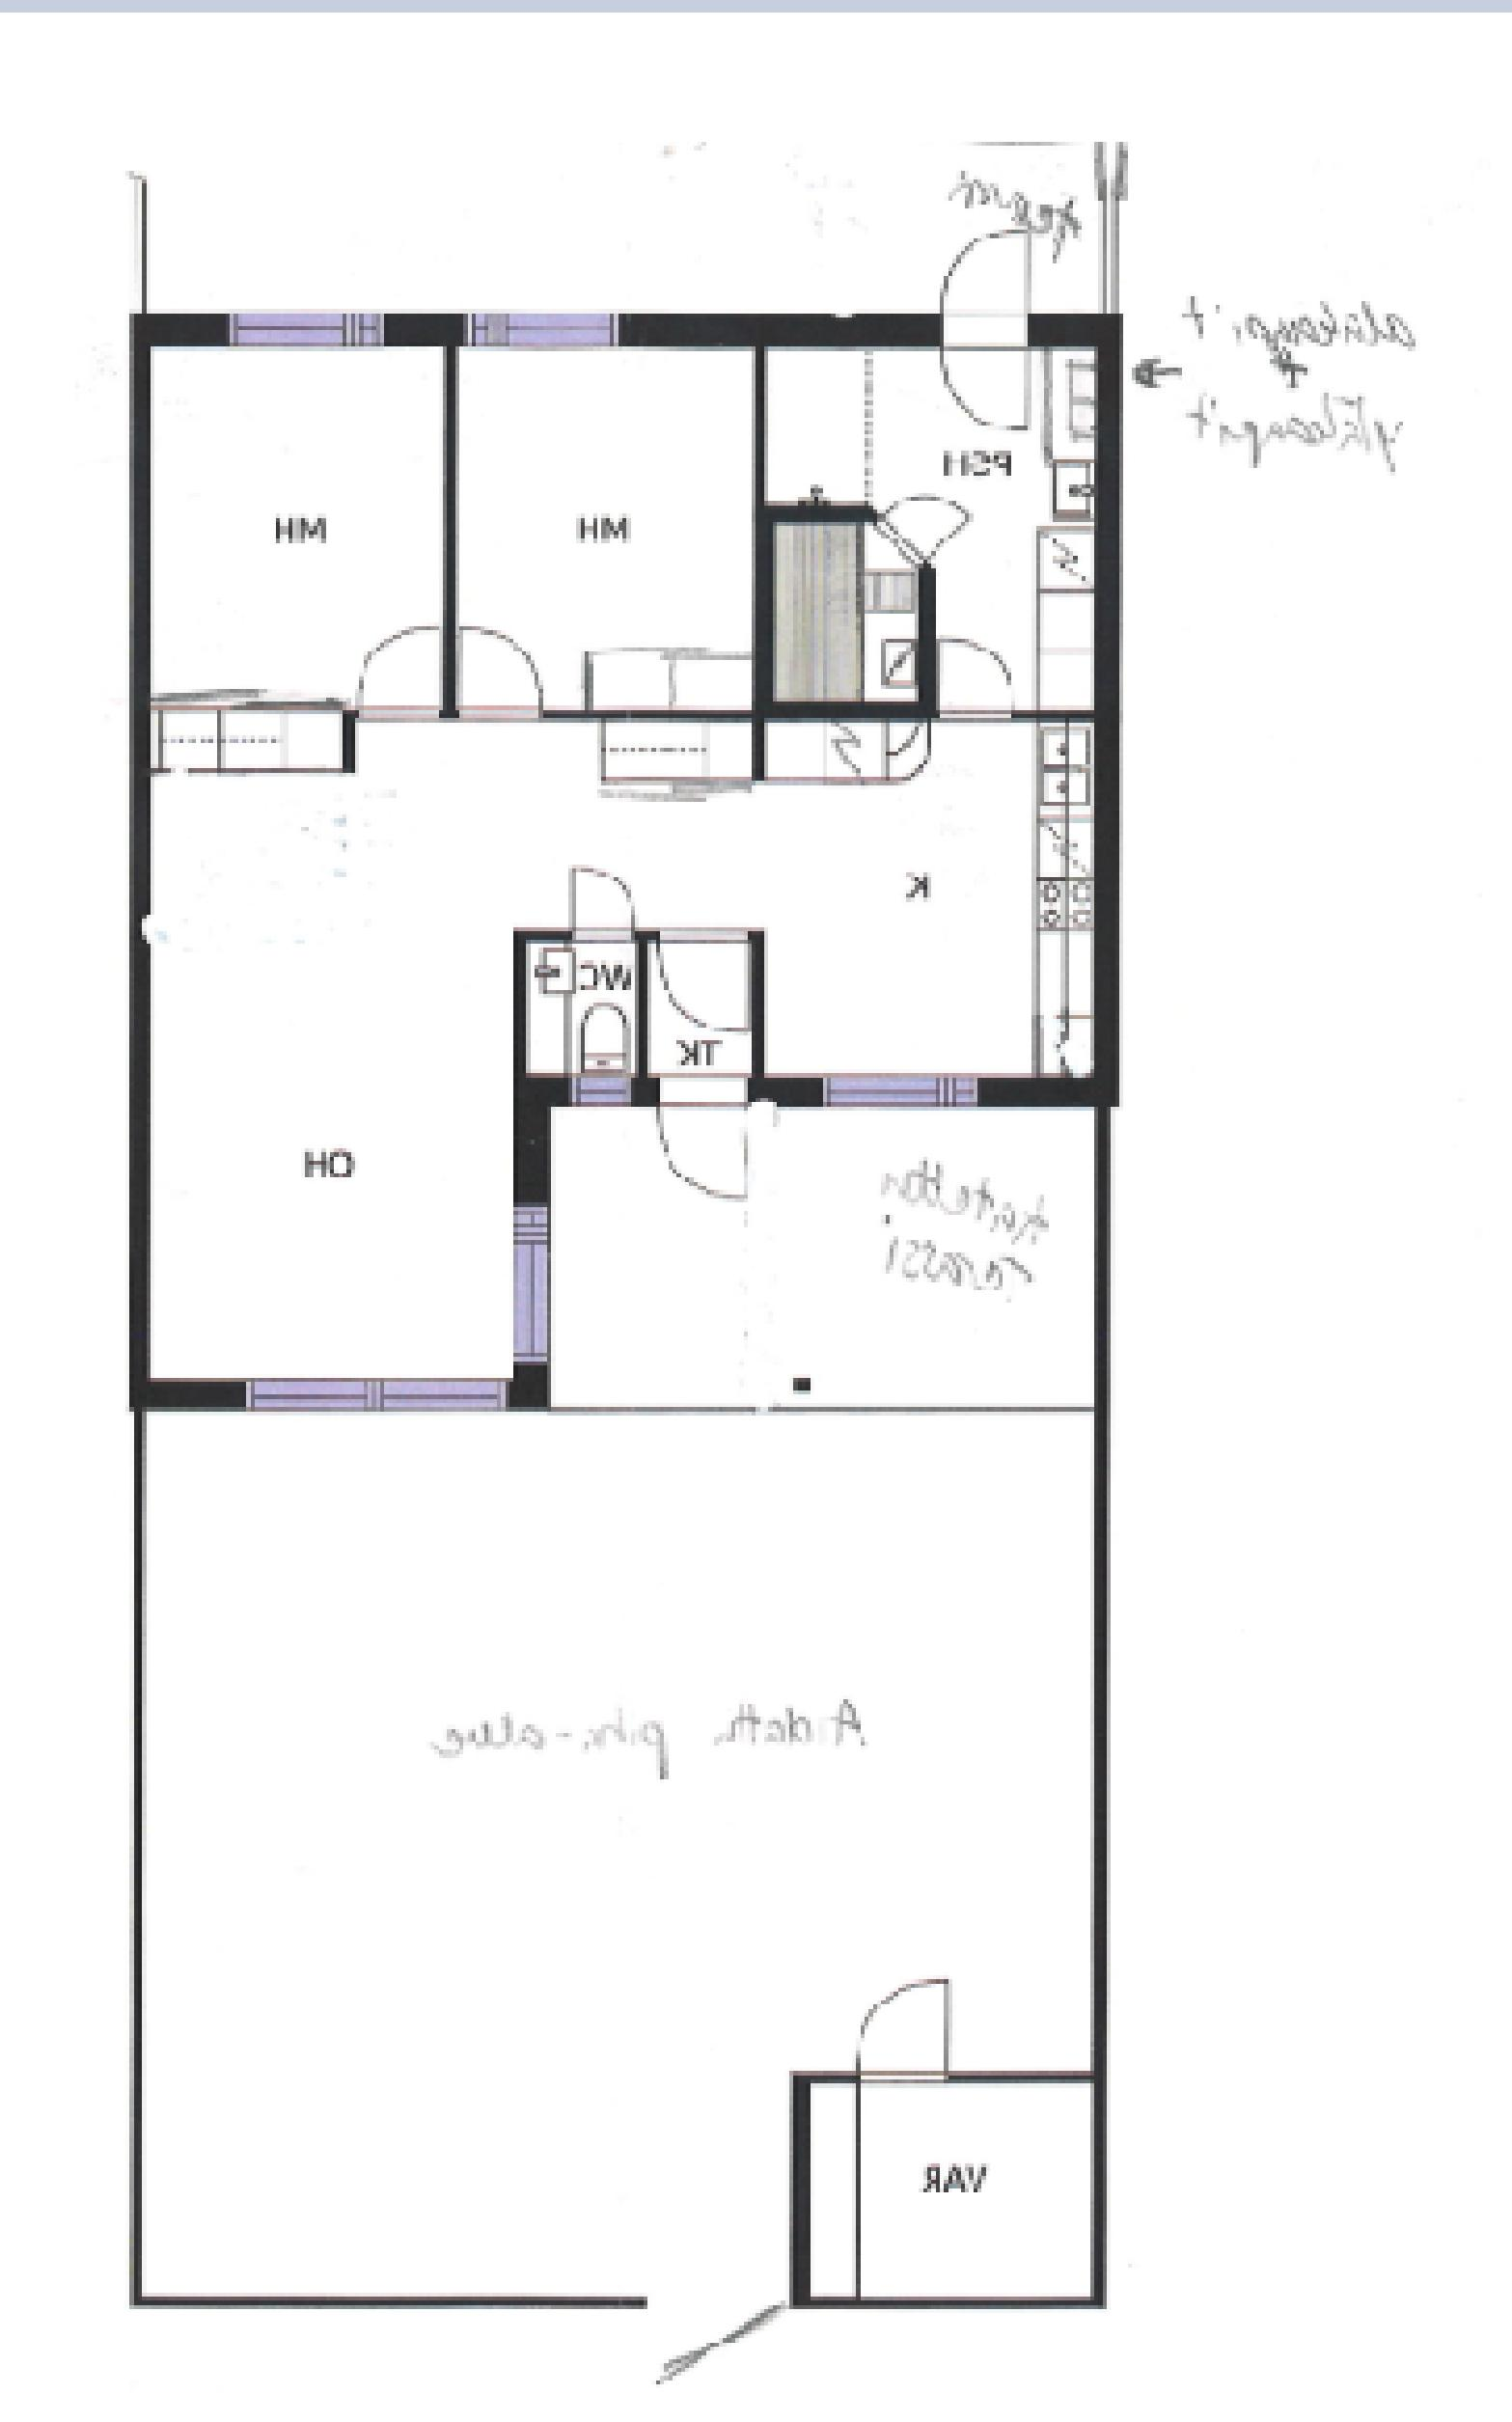door: (927, 230, 1038, 439), (650, 923, 770, 1046), (648, 1069, 756, 1200), (854, 1966, 963, 2091), (942, 630, 1042, 749), (460, 623, 543, 749), (355, 627, 449, 738), (874, 482, 970, 566), (578, 869, 629, 949)
window: (256, 1377, 503, 1430), (476, 299, 615, 352), (514, 1200, 559, 1356), (221, 308, 387, 345), (812, 1074, 979, 1106), (570, 1069, 625, 1102)
zone: (125, 1405, 1085, 2305), (145, 709, 1085, 1405), (559, 1109, 1101, 1409), (766, 352, 1085, 702), (449, 350, 753, 707), (152, 341, 435, 705), (789, 2079, 1090, 2295)
